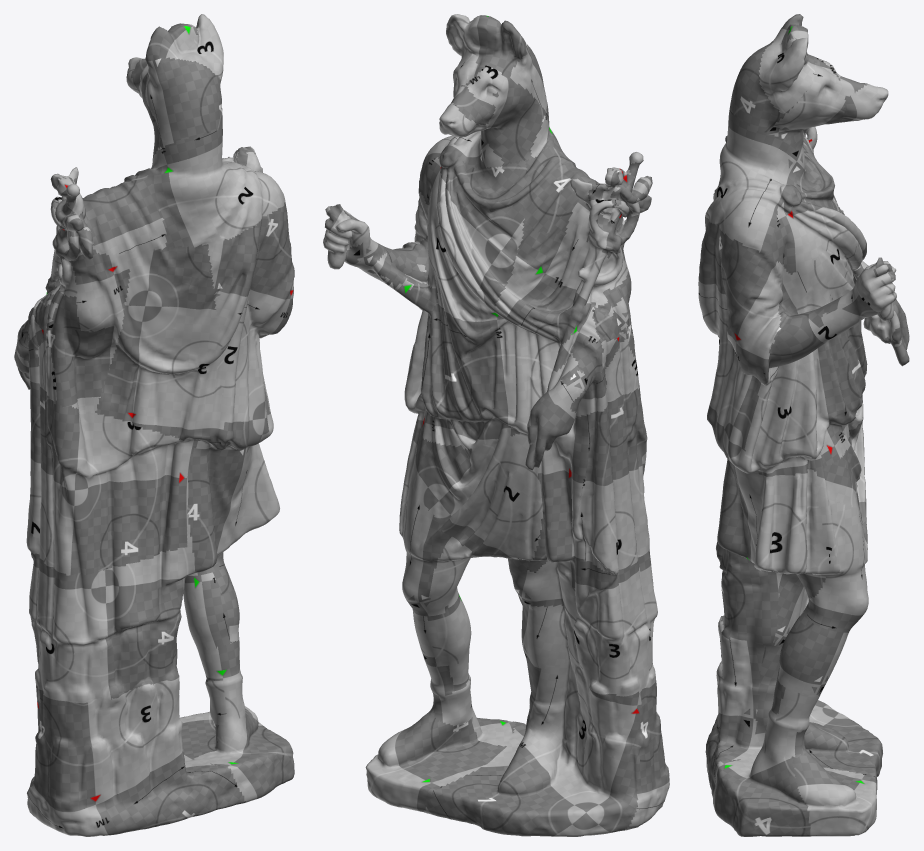
Rendered from Hermanubis.fbx.
3 views of the same model, side by side, from view 1: azimuth 30°, elevation 25°; view 2: azimuth 150°, elevation 25°; view 3: azimuth 270°, elevation 25° (orthographic). The views are drawn at different scales.
Parts seen in each view (by area): view 1: Mesh_low; view 2: Mesh_low; view 3: Mesh_low.
Boxes of the visible parts, x1,y1,x2,y2 form: Mesh_low: (14, 14, 294, 836); Mesh_low: (323, 14, 669, 836); Mesh_low: (698, 14, 909, 836).
Bounding box in the file's own units: 1.13 × 0.7464 × 3.01.
Materials: 1 (1 with a texture image).
